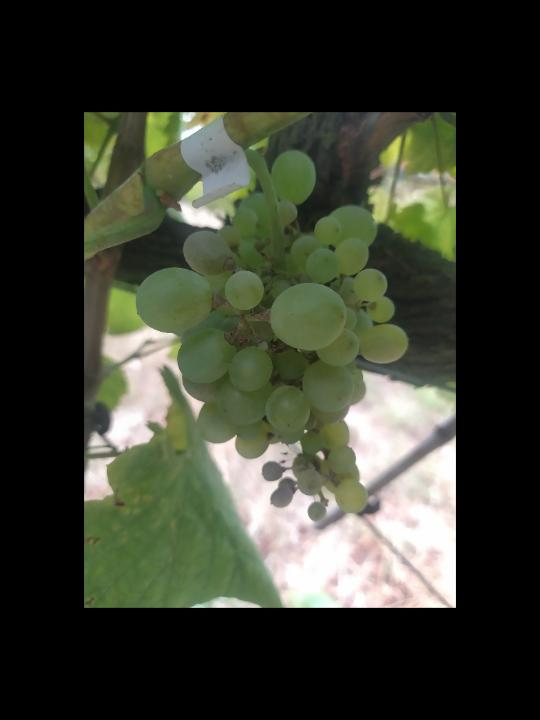grape: (134, 147, 411, 523)
